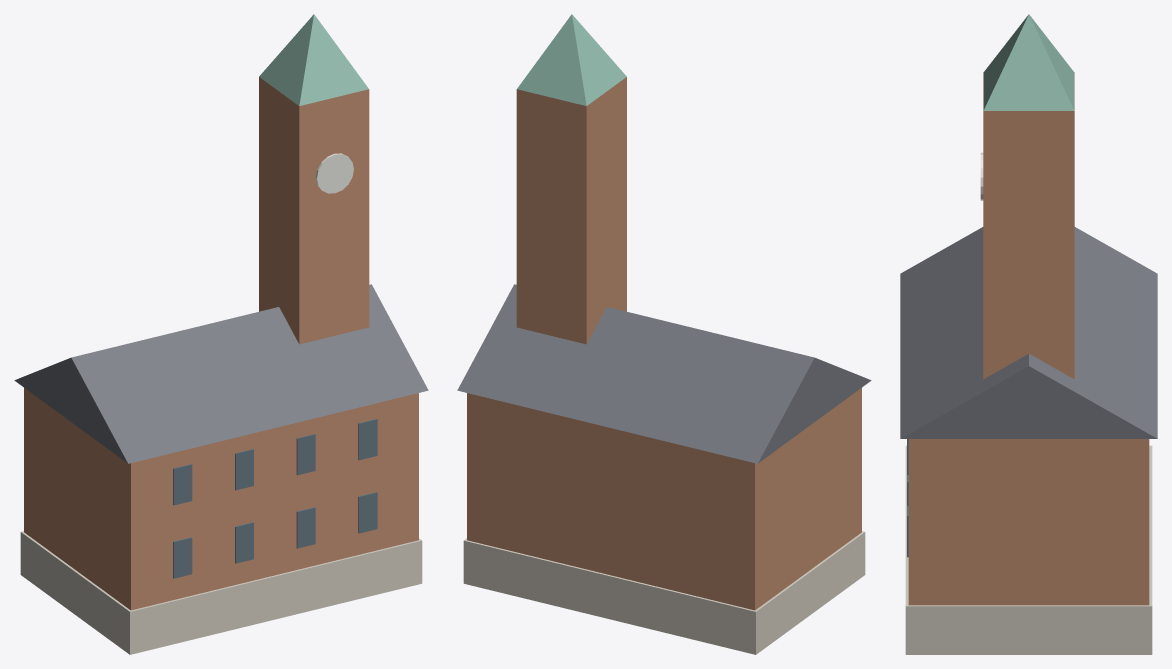
File: HarbourOffice.glb
The picture shows the model from 3 angles, left to right: view 1: azimuth 30°, elevation 25°; view 2: azimuth 150°, elevation 25°; view 3: azimuth 270°, elevation 25°; orthographic projection. The views are drawn at different scales.
Visible parts, largest first — view 1: Office, Office roof, Clock tower, Stone base, Tower spire, Clock face, Window.003, Window.004, Window.002, Window.007, Window, Window.006 (+2 smaller); view 2: Office, Office roof, Clock tower, Stone base, Tower spire; view 3: Office, Office roof, Clock tower, Stone base, Tower spire.
Boxes of the visible parts, x1,y1,x2,y2 form: Office: (24,388,418,610); Office roof: (14,284,428,463); Clock tower: (259,77,369,344); Stone base: (20,531,422,654); Tower spire: (259,14,368,105); Clock face: (315,153,353,193); Window.003: (358,492,377,533); Window.004: (173,464,192,505); Window.002: (296,507,315,548); Window.007: (358,418,377,460); Window: (173,537,192,578); Window.006: (296,434,315,475); Office: (467,388,861,610); Office roof: (457,284,871,463); Clock tower: (516,77,626,344); Stone base: (463,531,865,654); Tower spire: (517,14,626,105); Office: (908,439,1149,605); Office roof: (900,227,1157,438); Clock tower: (983,72,1074,379); Stone base: (905,445,1152,654); Tower spire: (983,14,1074,110).
Bounding box in the file's own units: 14.6 × 25.2 × 9.6.
